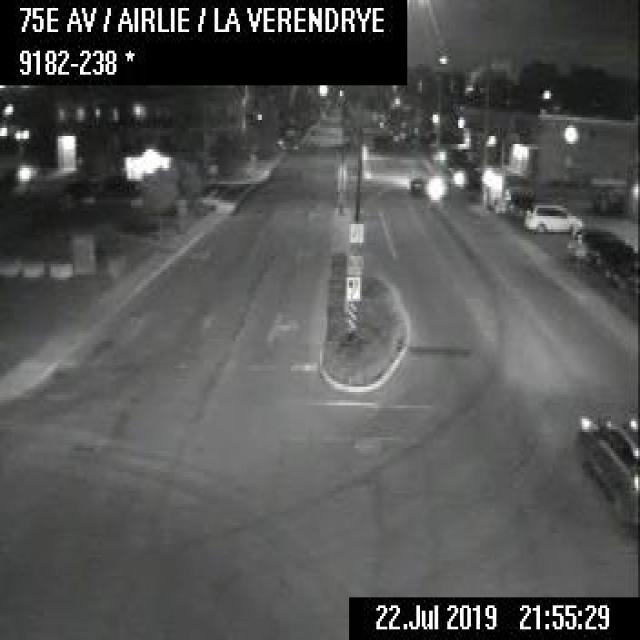vehicle: (575, 408, 638, 533), (522, 200, 585, 234), (571, 228, 623, 259)
